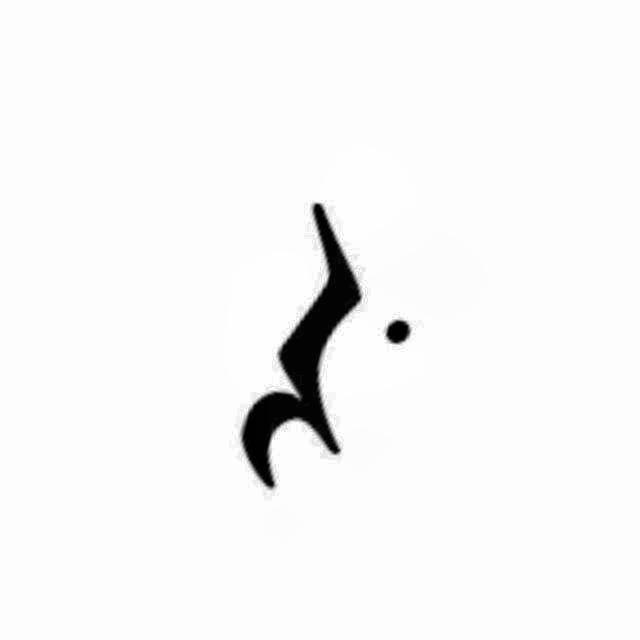Quarter-rest: (236, 195, 424, 498)
